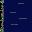Interaction: (0, 0, 8, 32)
Slow: (5, 0, 32, 32)
